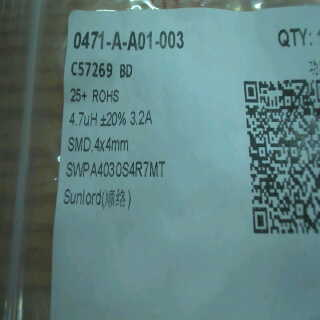4.7uH: (66, 107, 100, 129)
